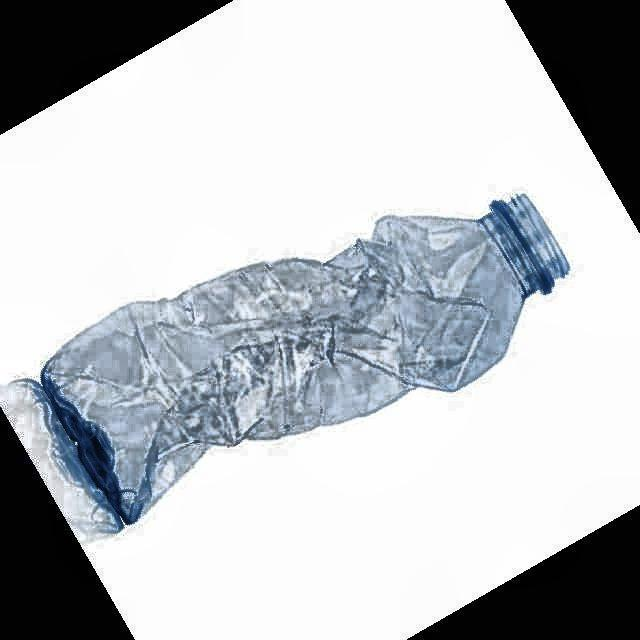plastic: (43, 195, 568, 526)
